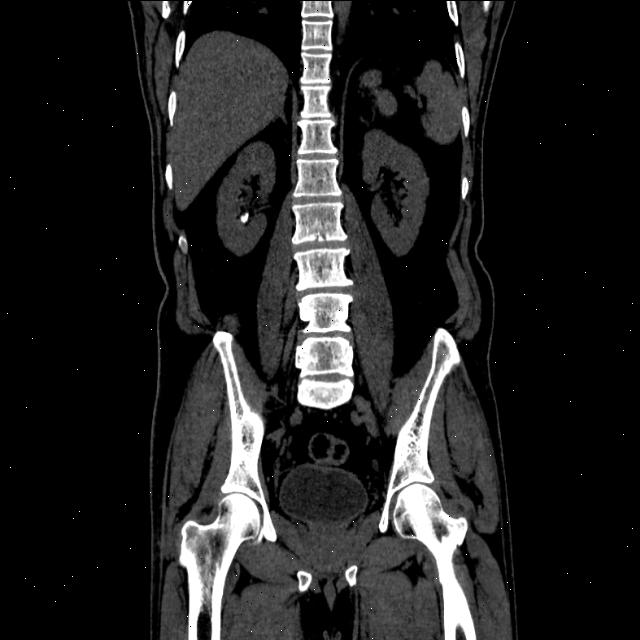kidneystone: (240, 212, 248, 224)
